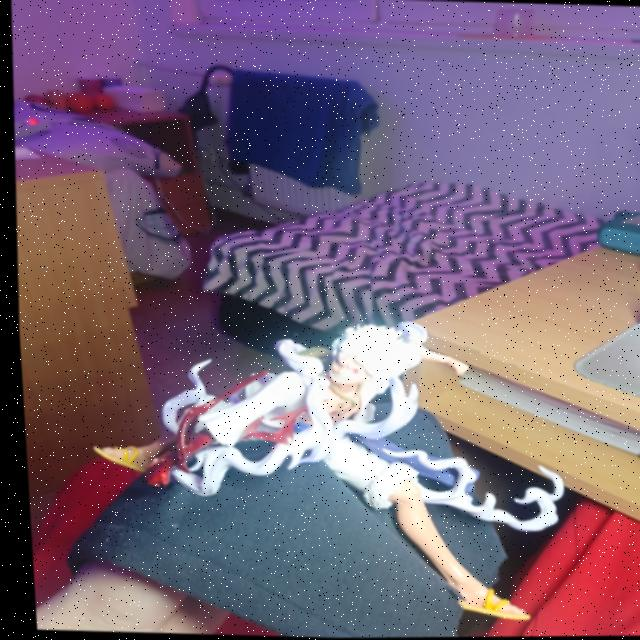luffy: (69, 306, 538, 635)
